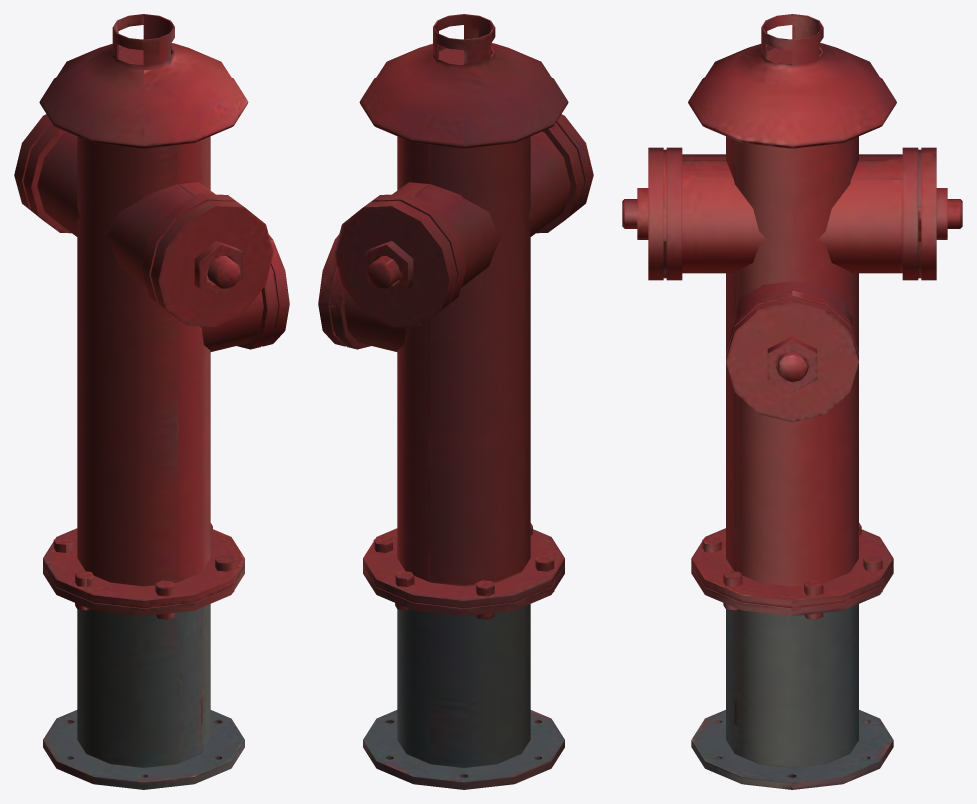
Rendered from xiaohuoshuan.glb.
3 views of the same model, side by side, from view 1: azimuth 30°, elevation 25°; view 2: azimuth 150°, elevation 25°; view 3: azimuth 270°, elevation 25° (orthographic).
Parts seen in each view (by area): view 1: XiaoHuoShuan_256; view 2: XiaoHuoShuan_256; view 3: XiaoHuoShuan_256.
Part boxes in pixels (left/top/right/bottom): XiaoHuoShuan_256: left=14, top=14, right=289, bottom=789; XiaoHuoShuan_256: left=318, top=14, right=593, bottom=789; XiaoHuoShuan_256: left=622, top=14, right=962, bottom=789.
Bounding box in the file's own units: 2.14 × 6.72 × 2.88.
1 material, 1 textured.
